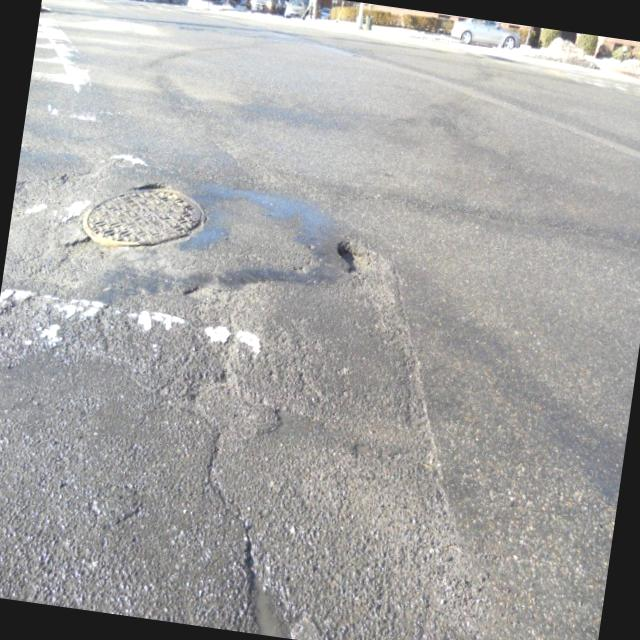bad-road: (230, 538, 310, 640), (331, 235, 378, 286)
